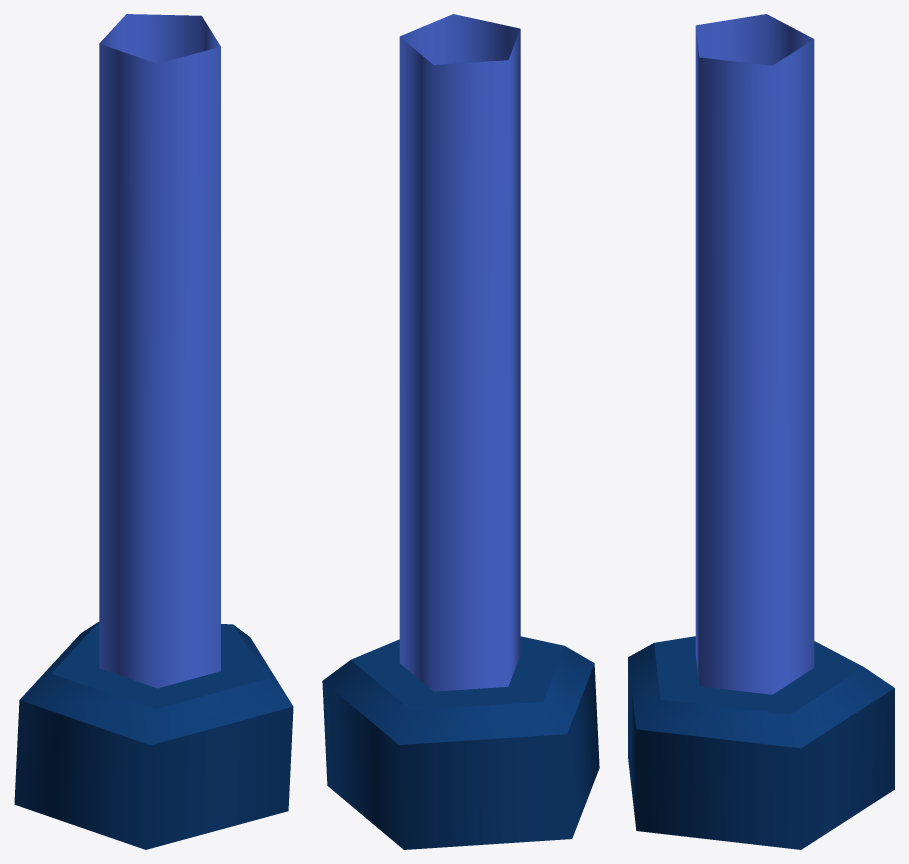
Rendered from Antene_2_B_1h.fbx.
3 views of the same model, side by side, from view 1: azimuth 30°, elevation 25°; view 2: azimuth 150°, elevation 25°; view 3: azimuth 270°, elevation 25° (orthographic).
Parts seen in each view (by area): view 1: Antene_2_B_1h; view 2: Antene_2_B_1h; view 3: Antene_2_B_1h.
Part boxes in pixels (x1,y1,x2,y2): Antene_2_B_1h: [14, 14, 293, 849]; Antene_2_B_1h: [322, 14, 599, 849]; Antene_2_B_1h: [628, 14, 894, 849].
Bounding box in the file's own units: 18.44 × 54.54 × 17.44.
